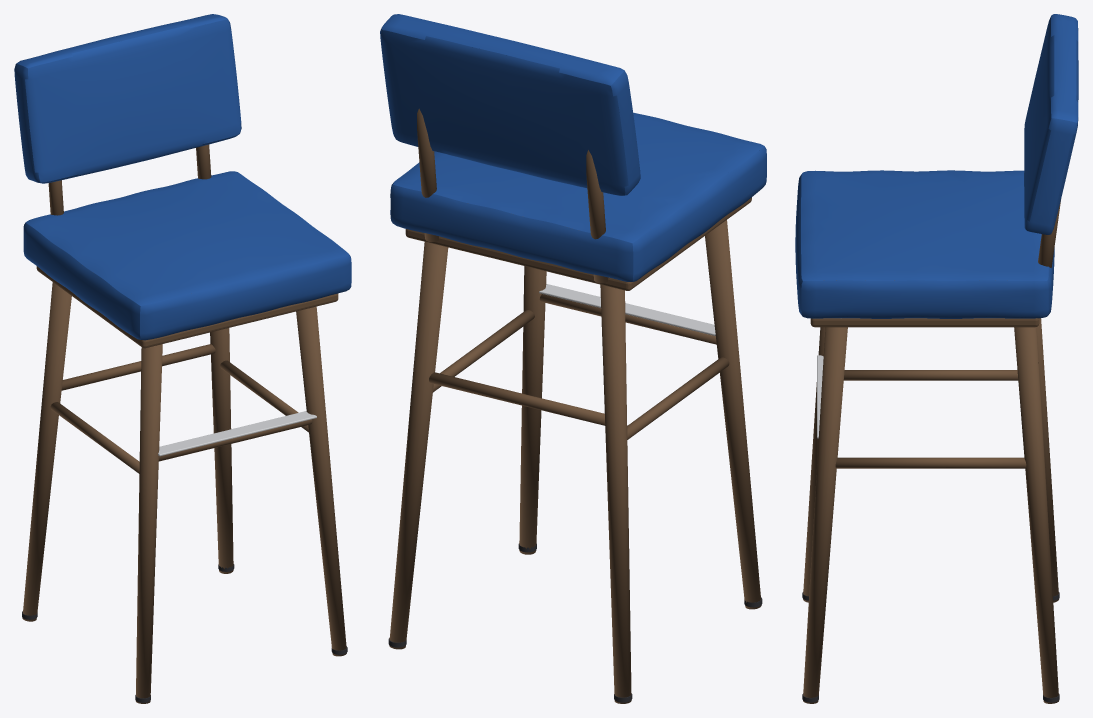
Rendered from hotel-bar-stool-mobile.glb.
3 views of the same model, side by side, from view 1: azimuth 30°, elevation 25°; view 2: azimuth 150°, elevation 25°; view 3: azimuth 270°, elevation 25° (orthographic). The views are drawn at different scales.
Parts seen in each view (by area): view 1: stool_cobalt, walnut_stain, brushed_metal; view 2: stool_cobalt, walnut_stain, brushed_metal; view 3: stool_cobalt, walnut_stain.
Boxes of the visible parts, x1,y1,x2,y2 form: stool_cobalt: (14,14,351,340); walnut_stain: (22,144,346,703); brushed_metal: (158,411,316,456); stool_cobalt: (380,14,766,281); walnut_stain: (389,108,761,703); brushed_metal: (539,284,715,335); stool_cobalt: (795,14,1078,318); walnut_stain: (803,200,1060,703).
Size of the model in its own units: 0.451 by 1.08 by 0.4708.
